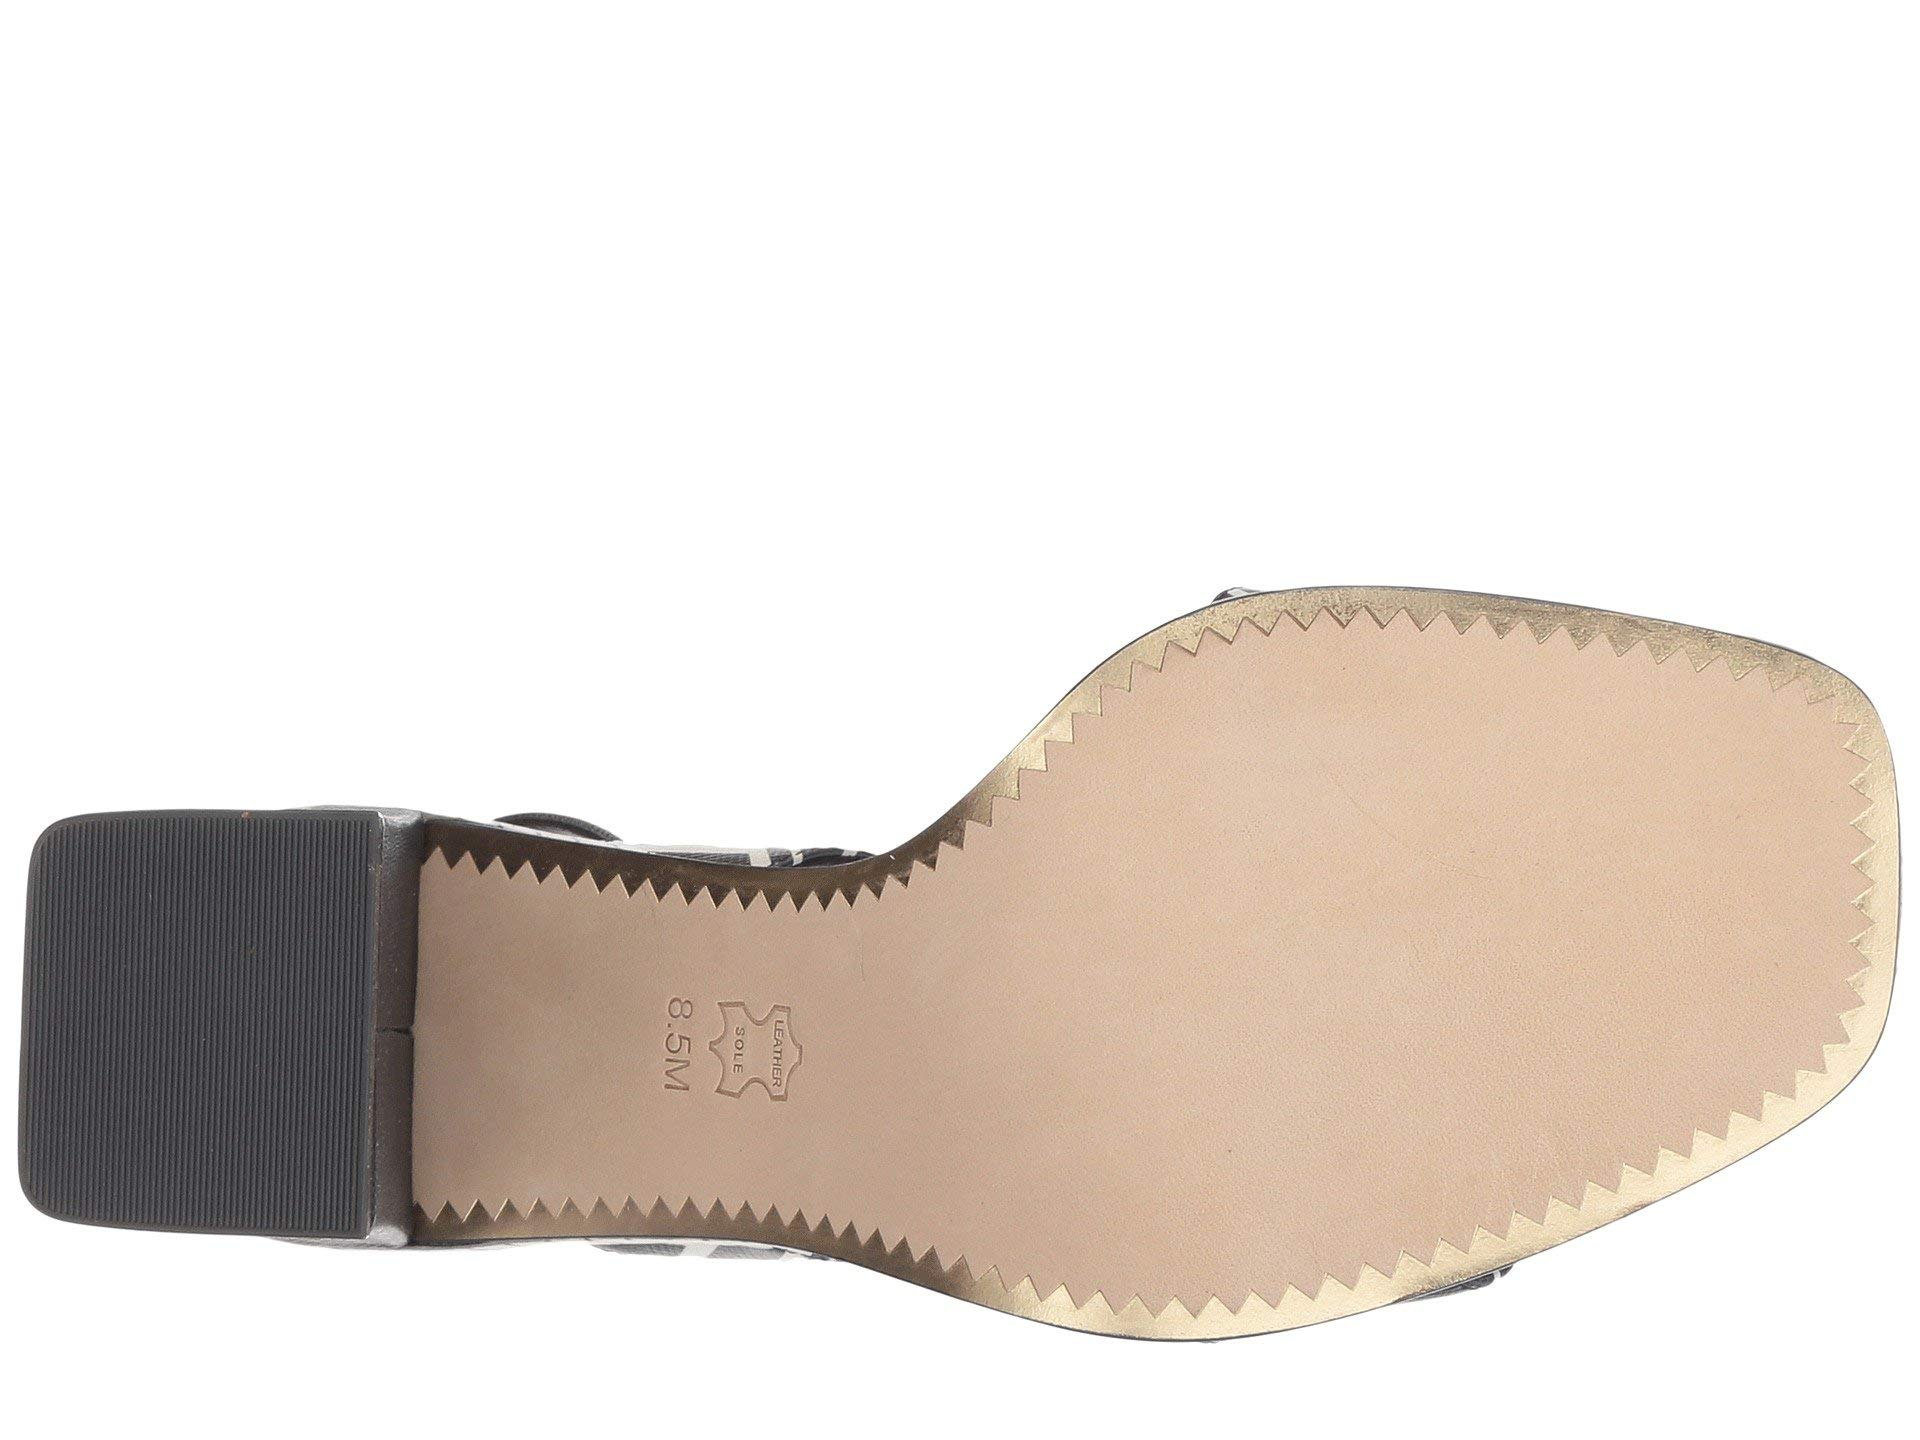chevron: (1704, 641, 1885, 1110), (1315, 588, 1524, 678), (1046, 1265, 1240, 1337), (1534, 616, 1695, 697)
exclude: (369, 811, 913, 1274)
line: (45, 815, 351, 1234)
